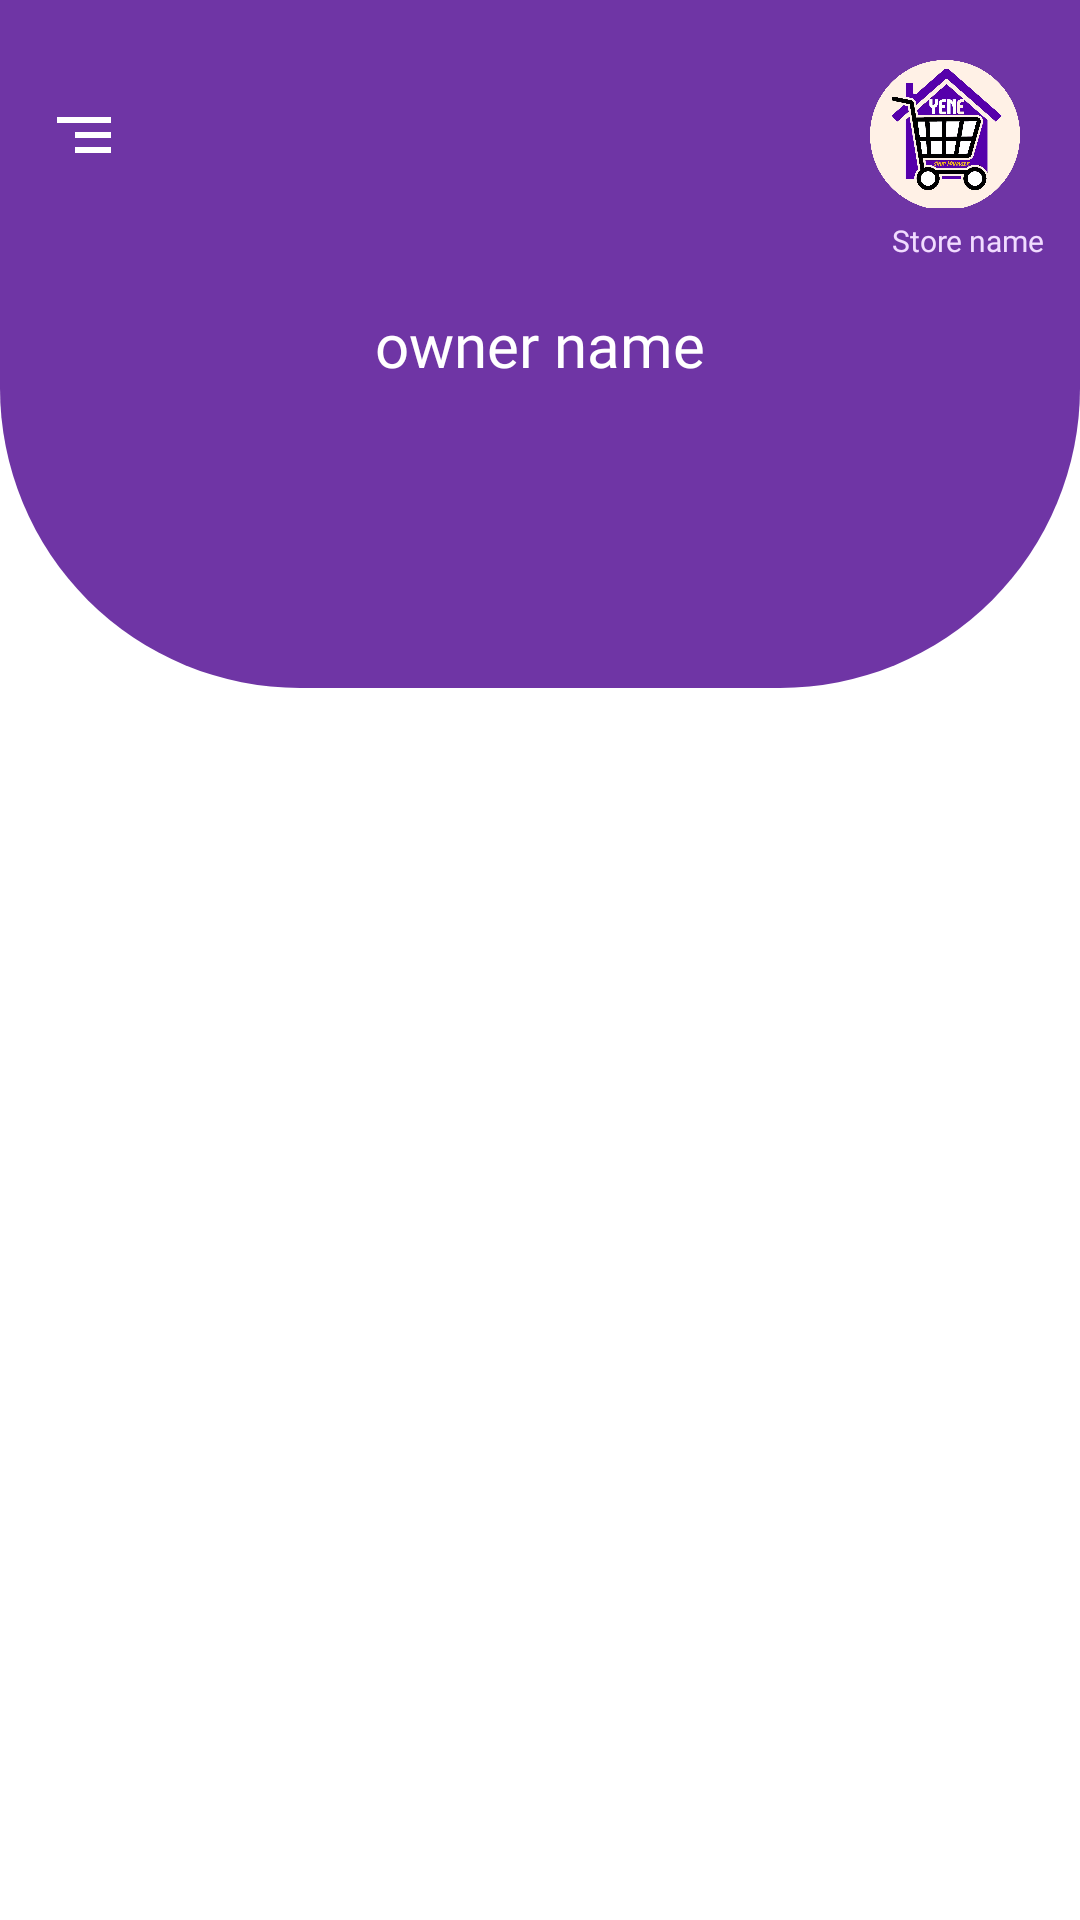

Locate icon controls on the screen. Image size 1080 × 1920, boxes as (x1, y1, x2, y2).
app: (870, 60, 1020, 208)
menu: (57, 117, 111, 153)
